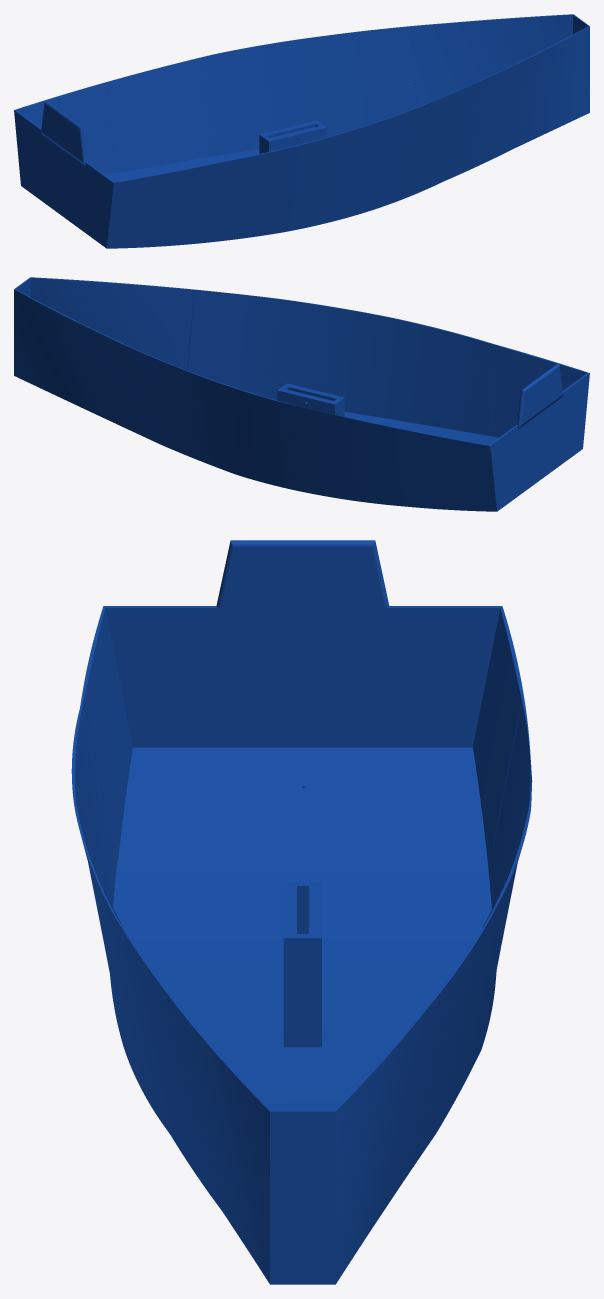
The model's file is casco.dae.
3 views of the same model, one above another, from view 1: azimuth 30°, elevation 25°; view 2: azimuth 150°, elevation 25°; view 3: azimuth 270°, elevation 25° (orthographic). The views are drawn at different scales.
Parts seen in each view (by area): view 1: ID2; view 2: ID2; view 3: ID2.
Boxes of the visible parts, x1=… form: ID2: x1=14, y1=14, x2=589, y2=248; ID2: x1=14, y1=277, x2=589, y2=511; ID2: x1=71, y1=540, x2=532, y2=1284.
Bounding box in the file's own units: 2.5 × 0.9583 × 0.5914.
